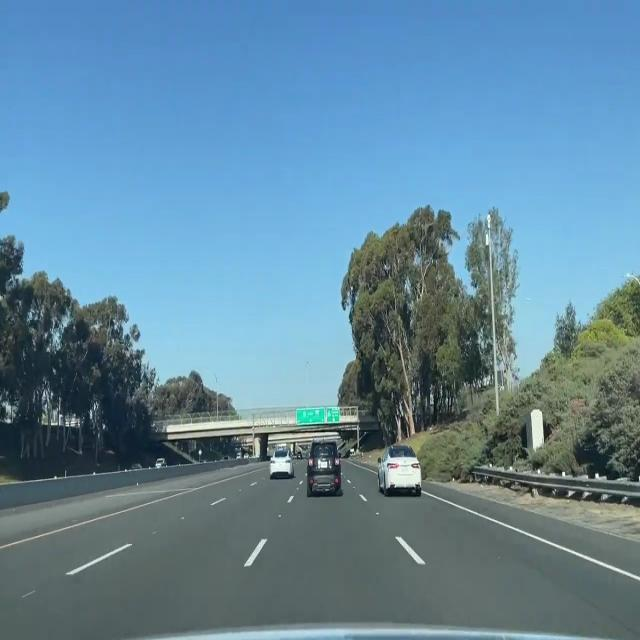street-signs: (296, 406, 325, 426), (326, 406, 340, 424)
